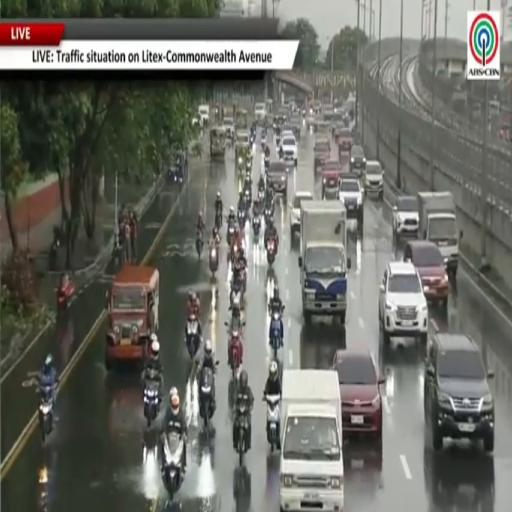car: (424, 333, 494, 452), (332, 347, 384, 441), (379, 262, 428, 343), (403, 240, 449, 312), (339, 173, 363, 231), (393, 196, 419, 238), (290, 191, 312, 238), (322, 159, 342, 199), (364, 160, 383, 200), (267, 162, 287, 199), (349, 144, 366, 177), (314, 139, 330, 173), (281, 133, 297, 166), (338, 128, 353, 153), (254, 102, 266, 123), (223, 117, 234, 139), (198, 105, 209, 125), (192, 117, 202, 127)
jeepney: (105, 265, 159, 370), (236, 143, 252, 175), (210, 126, 226, 156), (236, 130, 253, 158), (235, 109, 248, 130), (314, 120, 330, 135), (265, 100, 273, 114)
motorcycle: (162, 432, 185, 500), (200, 367, 215, 428), (38, 387, 54, 444), (264, 395, 280, 452), (144, 379, 160, 427), (237, 402, 248, 466), (228, 330, 242, 380), (186, 315, 200, 359), (270, 311, 282, 360), (225, 311, 245, 334), (230, 282, 243, 311), (208, 246, 218, 276), (267, 238, 275, 265), (252, 217, 260, 242), (196, 231, 203, 258), (264, 206, 273, 225), (230, 243, 239, 262), (227, 224, 234, 246), (238, 210, 246, 229), (215, 210, 222, 230), (245, 186, 251, 204), (258, 187, 265, 201), (264, 155, 270, 169), (246, 158, 252, 171), (261, 137, 266, 151), (276, 133, 281, 146)
truck: (280, 370, 344, 511), (299, 200, 351, 325), (418, 191, 462, 279)
